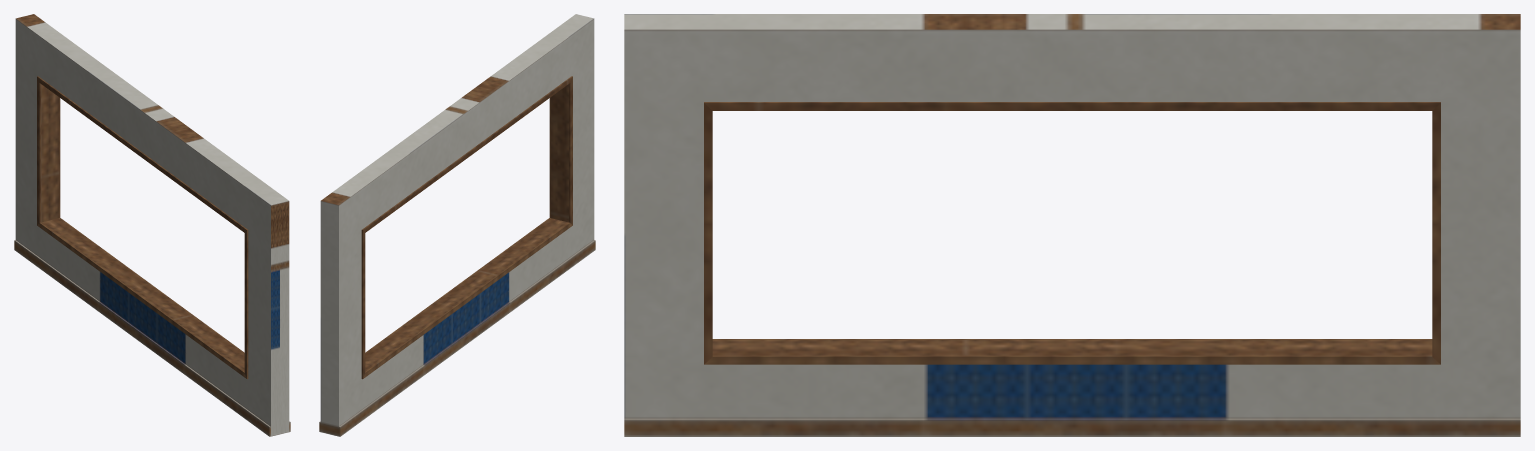
File: SM_Wall_04.fbx
3 views of the same model, side by side, from view 1: azimuth 30°, elevation 25°; view 2: azimuth 150°, elevation 25°; view 3: azimuth 270°, elevation 25° (orthographic). The views are drawn at different scales.
Visible parts, largest first — view 1: SM_Wall_04; view 2: SM_Wall_04; view 3: SM_Wall_04.
Boxes of the visible parts, x1=… form: SM_Wall_04: x1=14, y1=14, x2=290, y2=436; SM_Wall_04: x1=319, y1=14, x2=595, y2=436; SM_Wall_04: x1=624, y1=14, x2=1520, y2=436.
Bounding box in the file's own units: 28.23 × 300 × 600.
